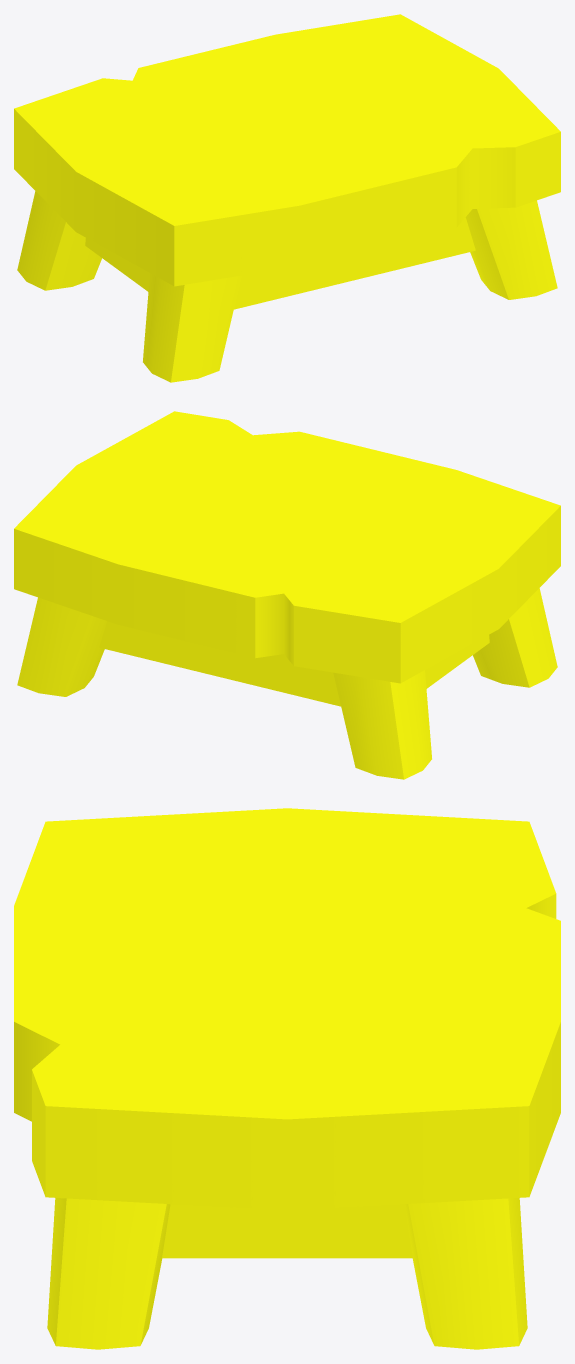
3 views of the same model, one above another, from view 1: azimuth 30°, elevation 25°; view 2: azimuth 150°, elevation 25°; view 3: azimuth 270°, elevation 25° (orthographic). The views are drawn at different scales.
Visible parts, largest first — view 1: table; view 2: table; view 3: table.
Boxes of the visible parts, x1=… form: table: x1=14, y1=14, x2=560, y2=382; table: x1=14, y1=411, x2=560, y2=779; table: x1=14, y1=808, x2=560, y2=1349.
Size of the model in its own units: 0.875 by 0.3146 by 0.65.
Materials: 1 (1 with a texture image).
